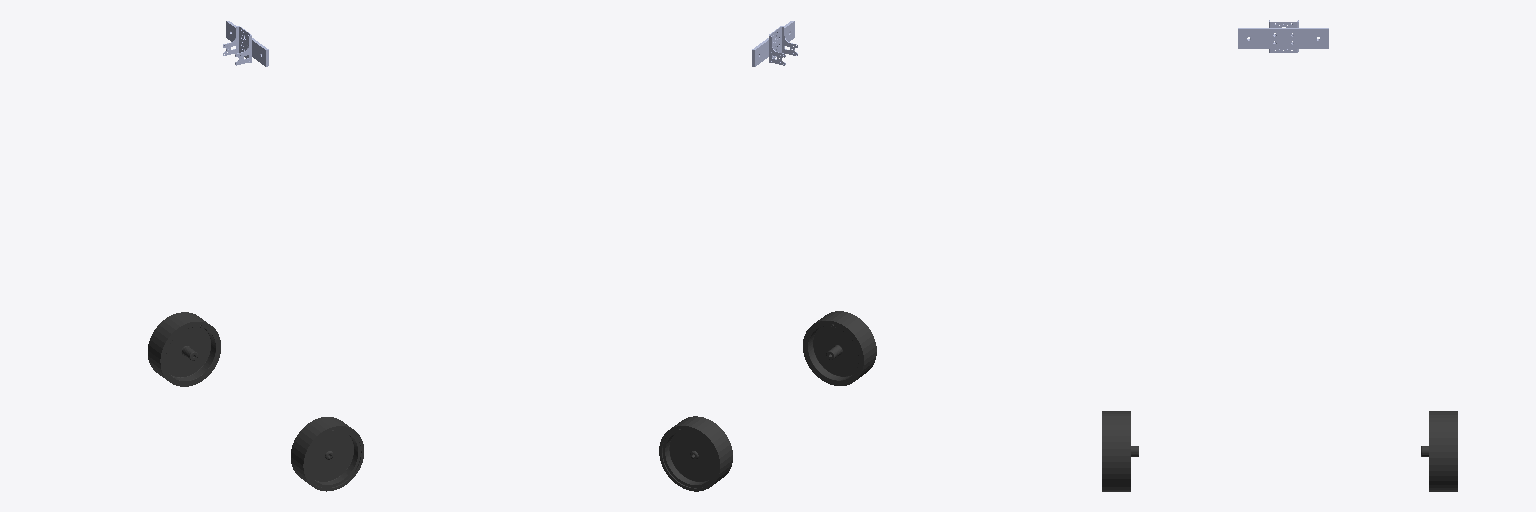
URDF robot description (archie_description):
<robot
  name="archie_description">
  <link
    name="base_link">
  </link>
  <link
    name="base">
    <inertial>
      <origin
        xyz="0.00733453928201211 0.00515194891324405 0.0600590776385257"
        rpy="0 0 0" />
      <mass
        value="2.31119340602887" />
      <inertia
        ixx="0.0820365921519234"
        ixy="0.00145402442171753"
        ixz="0.00779736449789006"
        iyy="0.0655678562763293"
        iyz="0.000717742863308553"
        izz="0.055720058769593" />
    </inertial>
    <visual>
      <origin
        xyz="0 0 0"
        rpy="0 0 0" />
      <geometry>
        <mesh
          filename="package://archie_description/meshes/base.STL" />
      </geometry>
      <material
        name="">
        <color
          rgba="0.752941176470588 0.752941176470588 0.752941176470588 1" />
      </material>
    </visual>
    <collision>
      <origin
        xyz="0 0 0"
        rpy="0 0 0" />
      <geometry>
        <mesh
          filename="package://archie_description/meshes/base.STL" />
      </geometry>
    </collision>
  </link>
  <joint
    name="base_joint"
    type="fixed">
    <origin
      xyz="0 0 0.0549"
      rpy="-0.00042319083381432 -1.21232042851455E-17 -2.84597815903914E-14" />
    <parent
      link="base_link" />
    <child
      link="base" />
    <axis
      xyz="0 0 0" />
  </joint>
  <link
    name="left_wheel">
    <inertial>
      <origin
        xyz="8.53355384062282E-05 -0.00230829105658181 1.03831180030822E-05"
        rpy="0 0 0" />
      <mass
        value="0.187715234825625" />
      <inertia
        ixx="0.000202585219170499"
        ixy="-1.42815369422969E-09"
        ixz="1.20829539485635E-07"
        iyy="0.000370271049787534"
        iyz="-2.23782609806456E-10"
        izz="0.000201813608090561" />
    </inertial>
    <visual>
      <origin
        xyz="0 0 0"
        rpy="0 0 0" />
      <geometry>
        <mesh
          filename="package://archie_description/meshes/left_wheel.STL" />
      </geometry>
      <material
        name="">
        <color
          rgba="0.294117647058824 0.294117647058824 0.294117647058824 1" />
      </material>
    </visual>
    <collision>
      <origin
        xyz="0 0 0"
        rpy="0 0 0" />
      <geometry>
        <mesh
          filename="package://archie_description/meshes/left_wheel.STL" />
      </geometry>
    </collision>
  </link>
  <joint
    name="left_wheel_joint"
    type="fixed">
    <origin
      xyz="0 0.23 0"
      rpy="0.00042319083381432 9.39672386974239E-20 2.84250897059694E-14" />
    <parent
      link="base" />
    <child
      link="left_wheel" />
    <axis
      xyz="0 0 0" />
  </joint>
  <link
    name="right_wheel">
    <inertial>
      <origin
        xyz="-8.53355384065613E-05 0.00230829105658387 1.57153402591537E-05"
        rpy="0 0 0" />
      <mass
        value="0.187715234825624" />
      <inertia
        ixx="0.000202585219170499"
        ixy="-1.42815369425293E-09"
        ixz="-1.20829539485632E-07"
        iyy="0.000370271049787534"
        iyz="2.23782609841977E-10"
        izz="0.00020181360809056" />
    </inertial>
    <visual>
      <origin
        xyz="0 0 0"
        rpy="0 0 0" />
      <geometry>
        <mesh
          filename="package://archie_description/meshes/right_wheel.STL" />
      </geometry>
      <material
        name="">
        <color
          rgba="0.294117647058824 0.294117647058824 0.294117647058824 1" />
      </material>
    </visual>
    <collision>
      <origin
        xyz="0 0 0"
        rpy="0 0 0" />
      <geometry>
        <mesh
          filename="package://archie_description/meshes/right_wheel.STL" />
      </geometry>
    </collision>
  </link>
  <joint
    name="right_wheel_joint"
    type="continuous">
    <origin
      xyz="0 -0.23 0"
      rpy="0.00042319083381432 -2.68613784773866E-17 9.21205716330717E-14" />
    <parent
      link="base" />
    <child
      link="right_wheel" />
    <axis
      xyz="0 0.99999991045476 -0.00042319082118275" />
  </joint>
  <link
    name="lidar">
    <inertial>
      <origin
        xyz="0.0119189312284075 -0.000416345790583944 -0.014770311626675"
        rpy="0 0 0" />
      <mass
        value="0.0735157407518519" />
      <inertia
        ixx="2.97357868328591E-05"
        ixy="-5.26803442400641E-07"
        ixz="9.41977428915003E-06"
        iyy="5.97754418539939E-05"
        iyz="2.66365610700581E-07"
        izz="6.8272006613991E-05" />
    </inertial>
    <visual>
      <origin
        xyz="0 0 0"
        rpy="0 0 0" />
      <geometry>
        <mesh
          filename="package://archie_description/meshes/lidar.STL" />
      </geometry>
      <material
        name="">
        <color
          rgba="0.752941176470588 0.752941176470588 0.752941176470588 1" />
      </material>
    </visual>
    <collision>
      <origin
        xyz="0 0 0"
        rpy="0 0 0" />
      <geometry>
        <mesh
          filename="package://archie_description/meshes/lidar.STL" />
      </geometry>
    </collision>
  </link>
  <joint
    name="lidar_joint"
    type="fixed">
    <origin
      xyz="0.219 -1.00719415356276E-05 0.0237999978688232"
      rpy="-7.92848647505339E-20 0.00042319083381432 -1.57079632679487" />
    <parent
      link="base" />
    <child
      link="lidar" />
    <axis
      xyz="0 0 0" />
  </joint>
  <link
    name="camera_tilt">
    <inertial>
      <origin
        xyz="0.0288618063642319 -5.96959703891287E-11 0.0114042265638415"
        rpy="0 0 0" />
      <mass
        value="0.0217393031475654" />
      <inertia
        ixx="2.55450729458819E-05"
        ixy="1.01285402595985E-15"
        ixz="-2.45565933576798E-07"
        iyy="2.56233006846258E-06"
        iyz="1.078452381831E-14"
        izz="2.40718051317747E-05" />
    </inertial>
    <visual>
      <origin
        xyz="0 0 0"
        rpy="0 0 0" />
      <geometry>
        <mesh
          filename="package://archie_description/meshes/camera_tilt.STL" />
      </geometry>
      <material
        name="">
        <color
          rgba="0.792156862745098 0.819607843137255 0.933333333333333 1" />
      </material>
    </visual>
    <collision>
      <origin
        xyz="0 0 0"
        rpy="0 0 0" />
      <geometry>
        <mesh
          filename="package://archie_description/meshes/camera_tilt.STL" />
      </geometry>
    </collision>
  </link>
  <joint
    name="camera_tilt_joint"
    type="revolute">
    <origin
      xyz="-0.0430000000000003 -0.000256393181805814 0.60585708860552"
      rpy="0.000423190833828544 -2.81011526104924E-16 2.84249707446941E-14" />
    <parent
      link="base" />
    <child
      link="camera_tilt" />
    <axis
      xyz="0 1 0" />
  </joint>
  <link
    name="camera">
    <inertial>
      <origin
        xyz="0.00288923128022706 5.89496325621441E-05 0.0145825271054898"
        rpy="0 0 0" />
      <mass
        value="0.0548652828266136" />
      <inertia
        ixx="6.99395203644299E-05"
        ixy="-9.65763568917195E-08"
        ixz="3.21146058326594E-08"
        iyy="6.26127942930752E-06"
        iyz="1.95459290349925E-09"
        izz="6.8843896362047E-05" />
    </inertial>
    <visual>
      <origin
        xyz="0 0 0"
        rpy="0 0 0" />
      <geometry>
        <mesh
          filename="package://archie_description/meshes/camera.STL" />
      </geometry>
      <material
        name="">
        <color
          rgba="0.792156862745098 0.819607843137255 0.933333333333333 1" />
      </material>
    </visual>
    <collision>
      <origin
        xyz="0 0 0"
        rpy="0 0 0" />
      <geometry>
        <mesh
          filename="package://archie_description/meshes/camera.STL" />
      </geometry>
    </collision>
  </link>
  <joint
    name="camera_joint"
    type="fixed">
    <origin
      xyz="0.0432049999999997 0 -0.00250000000000017"
      rpy="0 0 0" />
    <parent
      link="camera_tilt" />
    <child
      link="camera" />
    <axis
      xyz="0 0 0" />
  </joint>
</robot>

--- Facts derived from the render (not from the file) ---
Views: 3 orthographic renders of the robot side by side, from view 1: azimuth 30°, elevation 25°; view 2: azimuth 150°, elevation 25°; view 3: azimuth 270°, elevation 25°.
Robot: archie_description — 7 links, 6 joints (1 revolute, 1 continuous, 4 fixed); root link base_link; default pose: all joints at 0.
Visible links, largest first — view 1: left_wheel, right_wheel, camera_tilt; view 2: left_wheel, right_wheel, camera_tilt; view 3: left_wheel, right_wheel, camera_tilt.
Link boxes in pixels (x1,y1,x2,y2): left_wheel: (148,312,220,386); right_wheel: (291,417,363,491); camera_tilt: (223,21,268,66); left_wheel: (659,416,732,491); right_wheel: (803,311,876,385); camera_tilt: (752,21,797,66); left_wheel: (1421,411,1457,491); right_wheel: (1102,411,1138,491); camera_tilt: (1238,20,1328,52).
Bounding box of the posed robot: 0.11 × 0.4866 × 0.6962 m (x, y, z).
3 mesh visuals loaded from 6 distinct referenced files (3 binary STL); not drawn: 3 (reference not matched to a file when rendering).
